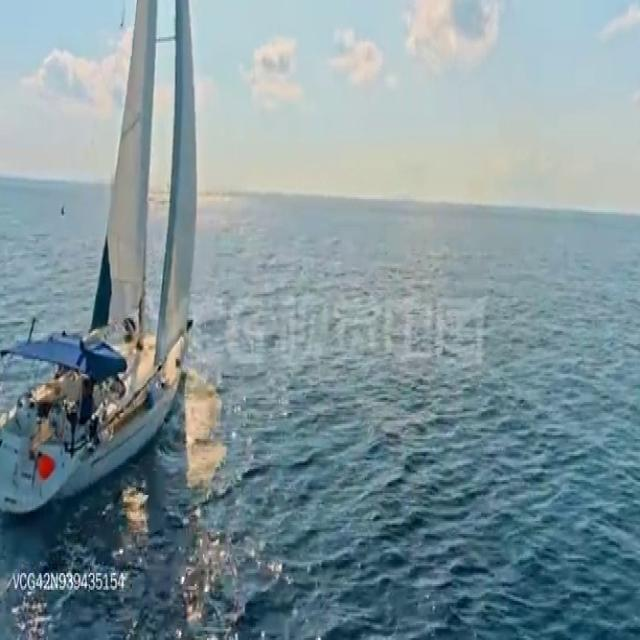sailboat: (0, 0, 208, 530)
